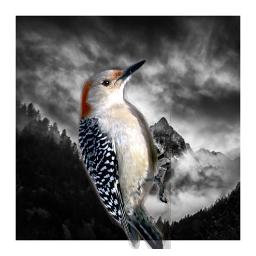Woodpecker: (78, 59, 171, 249)
